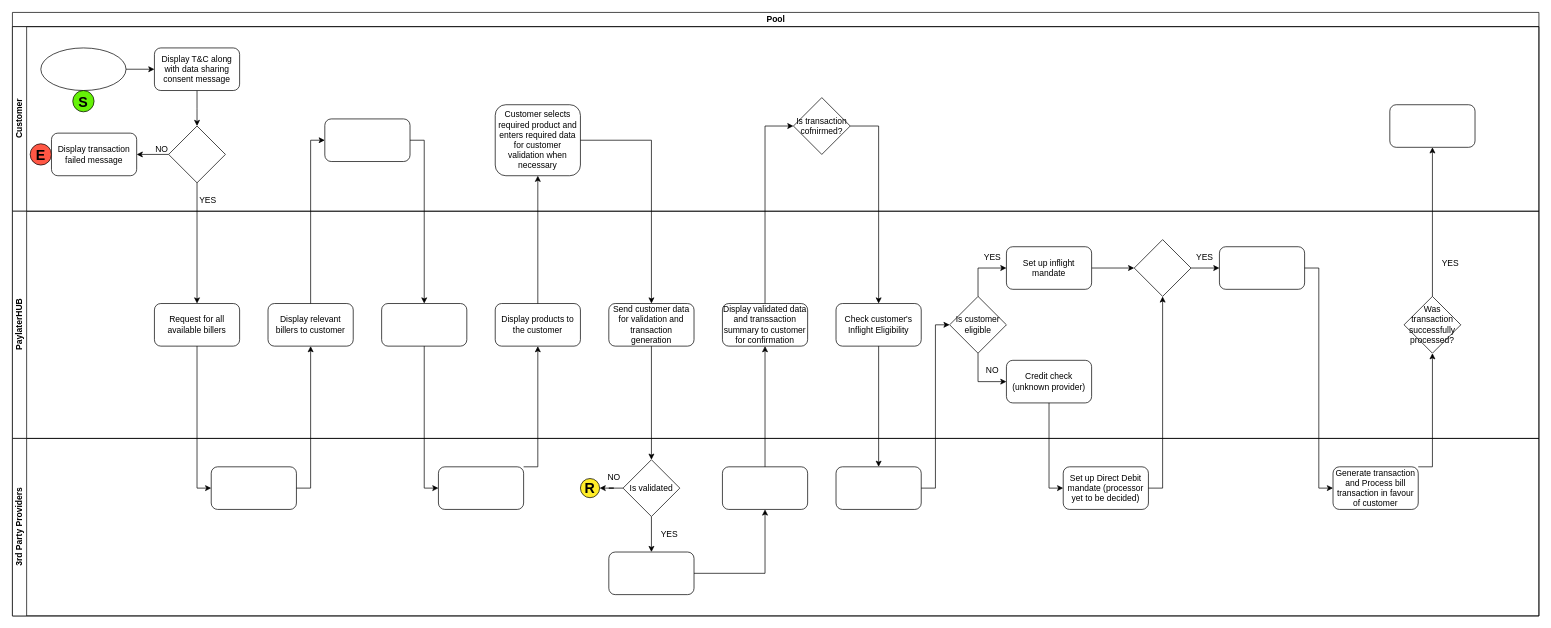
Image size: 1551x628. Some labels were removed from this diagram. Here are the shapes that lost their labels. From the top down, the centre of each, then its label:
At point (83, 69): "Customer initiates bill purchase".
At point (367, 140): "Customer selects required biller".
At point (1432, 125): "Display transaction success message".
At point (196, 154): "Consent given?".
At point (1162, 267): "Is setup successful?".
At point (1262, 267): "Disburse funds to wallet with Remita".
At point (424, 324): "Make request for chosen biller's products".
At point (253, 487): "Return available billers".
At point (481, 487): "Return all products mapped to biller".
At point (765, 487): "Return validated and transaction details.".
At point (878, 487): "Return response".
At point (651, 573): "Generate transaction".
